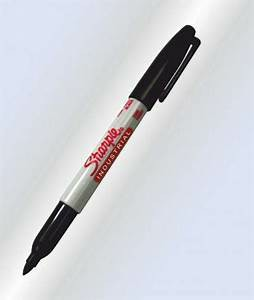pen: (18, 24, 195, 280)
